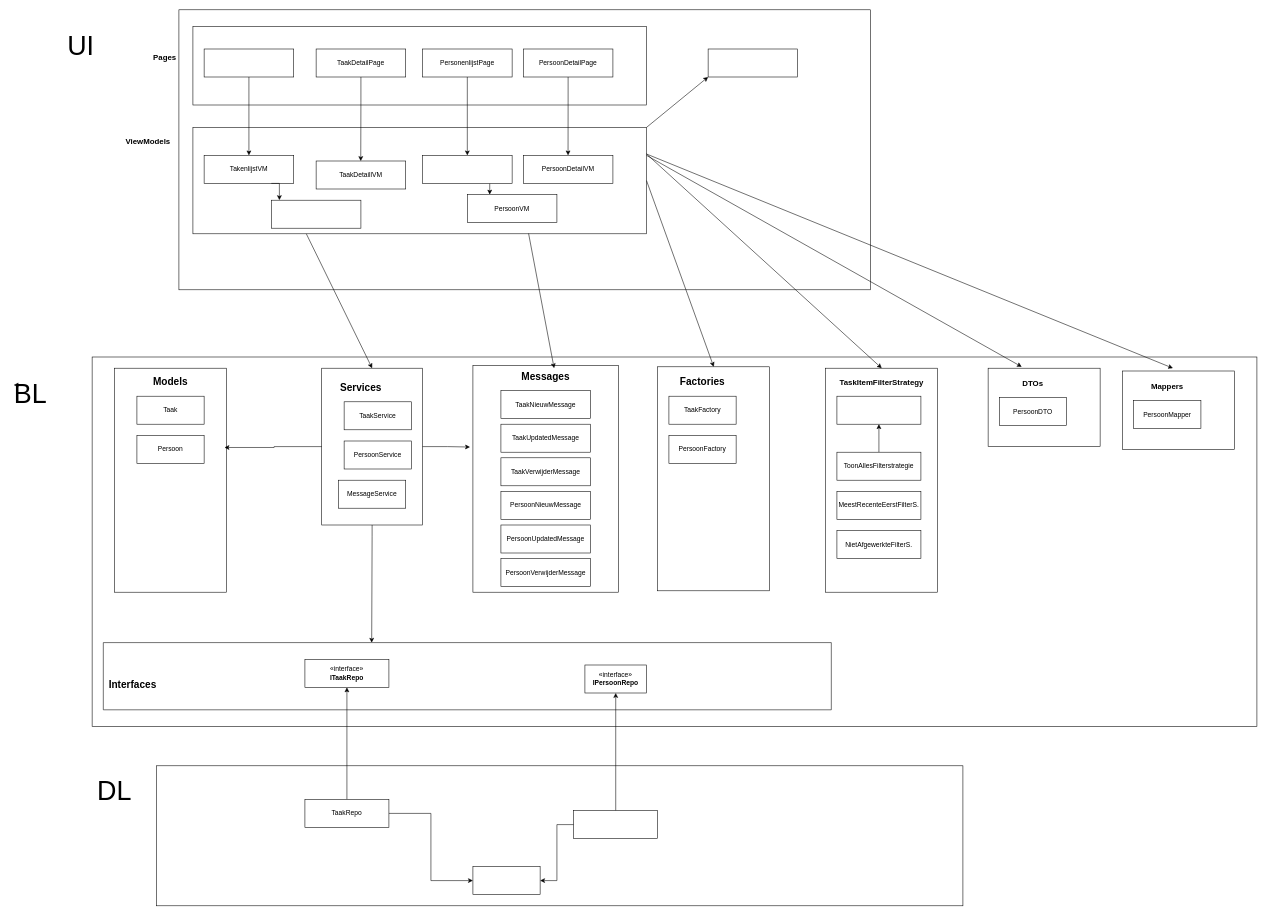
Some shapes in this 1267 by 916 pixel diagram are drawn without their labels. The shapes that lost their labels are listed below. From the top down, each one's centre as x and y in pixels, then its label:
(x=249, y=62): TakenlijstPage
(x=753, y=62): NavigatieService
(x=467, y=169): PersonenlijsttVM
(x=316, y=214): TaakVM
(x=878, y=410): "Interface" IFilterStrategie
(x=615, y=824): PersoonRepo
(x=506, y=880): DatabankConnectie
